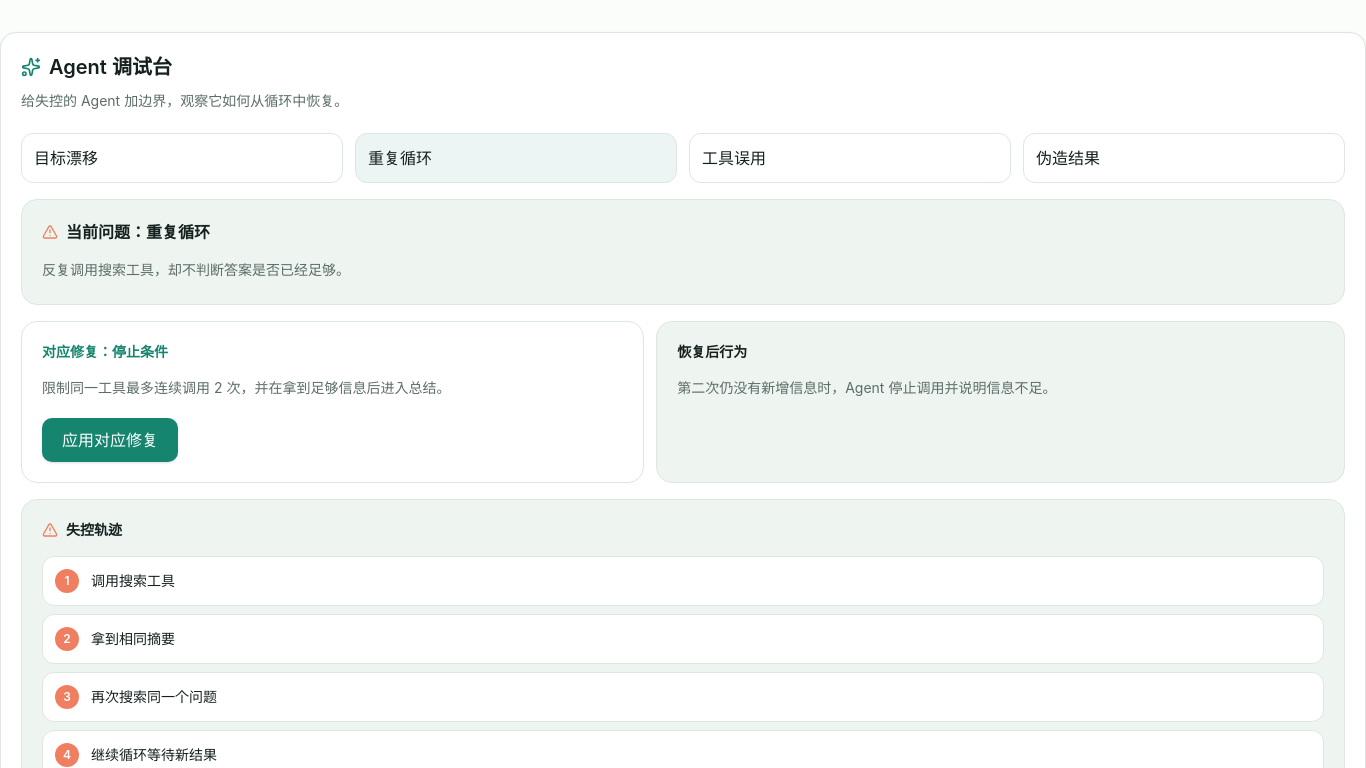
Test case: course client interactions › maps each agent failure type to its matching repair boundary
Click the button "伪造结果".
click(1068, 158)  # box [1023, 133, 1345, 183]
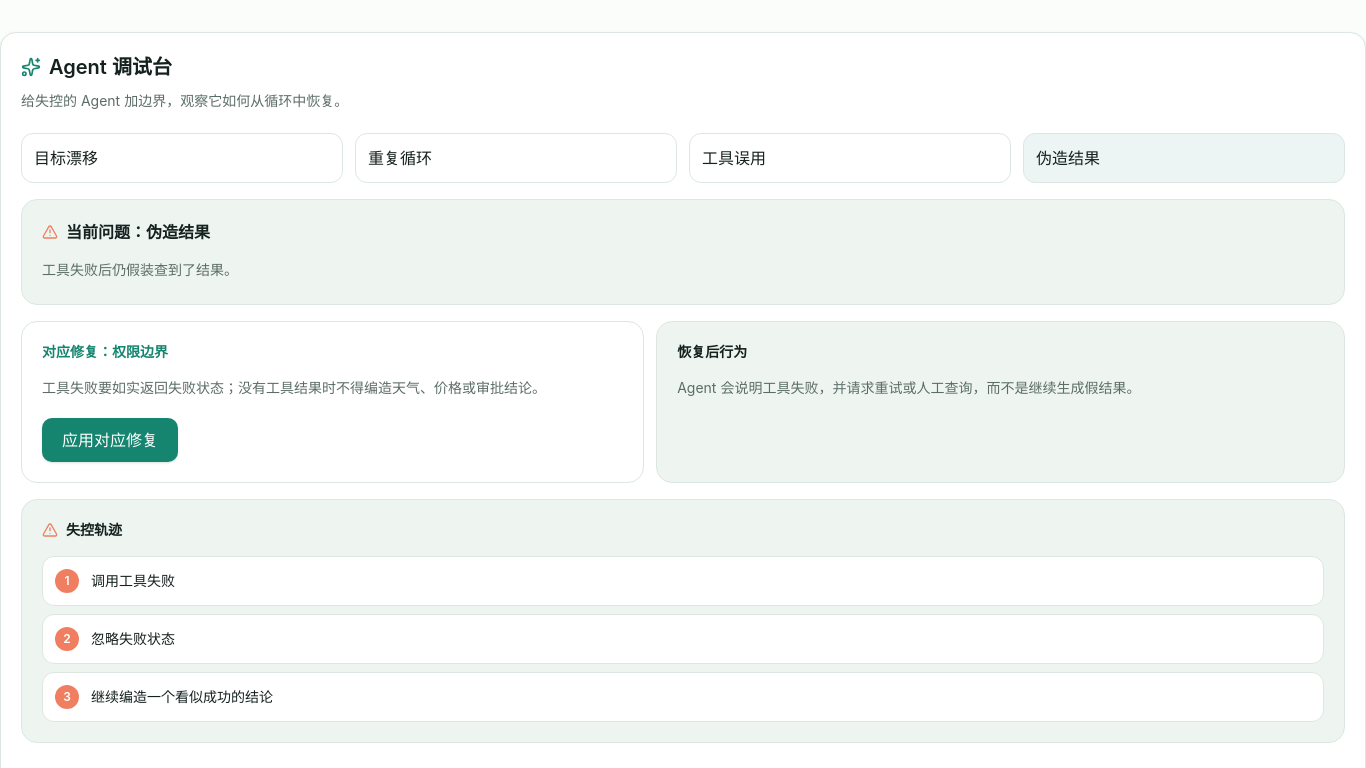
Expected: the text "工具失败后仍假装查到了结果" is shown, [42, 261, 238, 278]
Expected: the text "对应修复：权限边界" is shown, [42, 343, 168, 360]
Expected: the text "对应修复：停止条件" is gone
